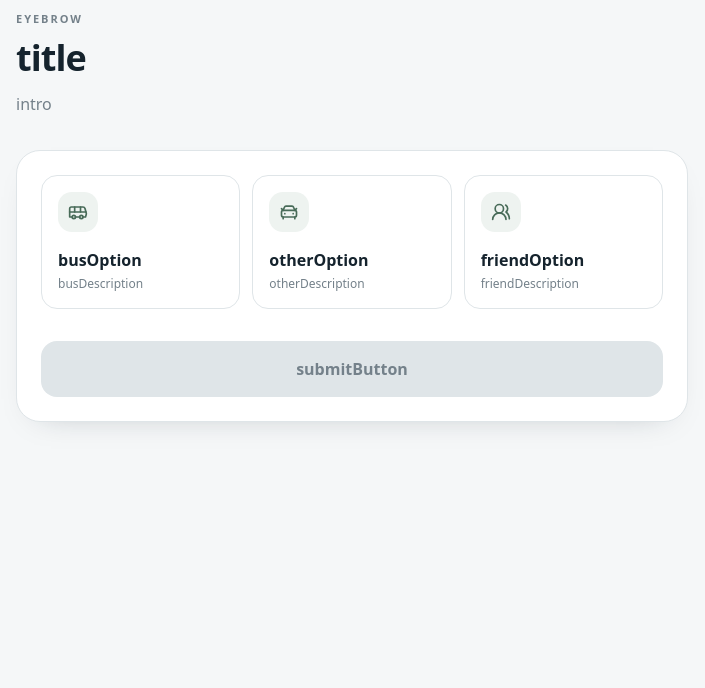
it: ReportForm › shows the deadline error and does not show success
Click the button "busOption busDescription" at (141, 242), box [41,175,240,309]
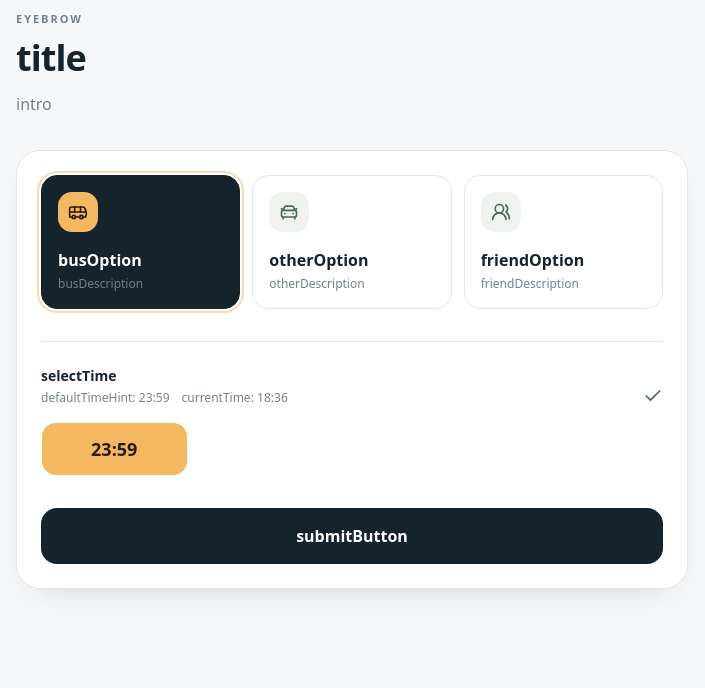
Click the button "submitButton" at (352, 536), box [41,508,663,564]
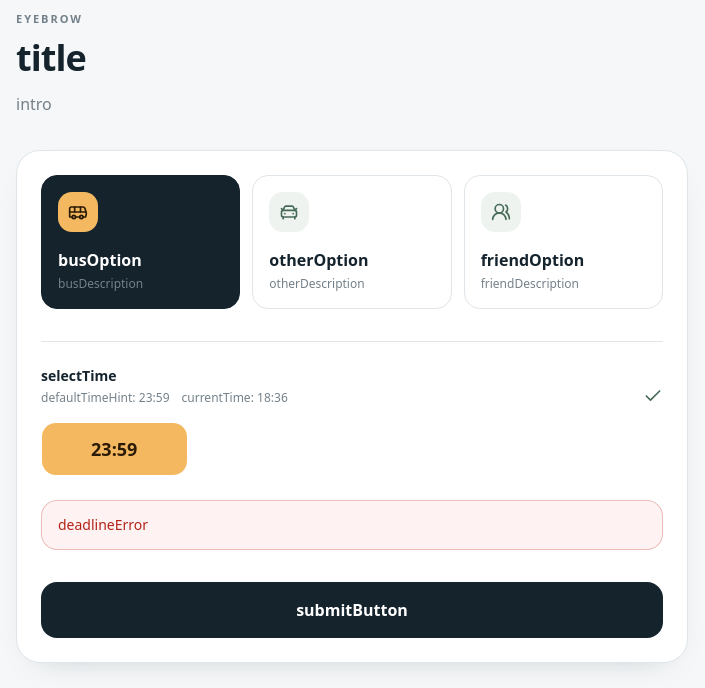
Expected: the message reads "deadlineError", [58,515,148,534]
